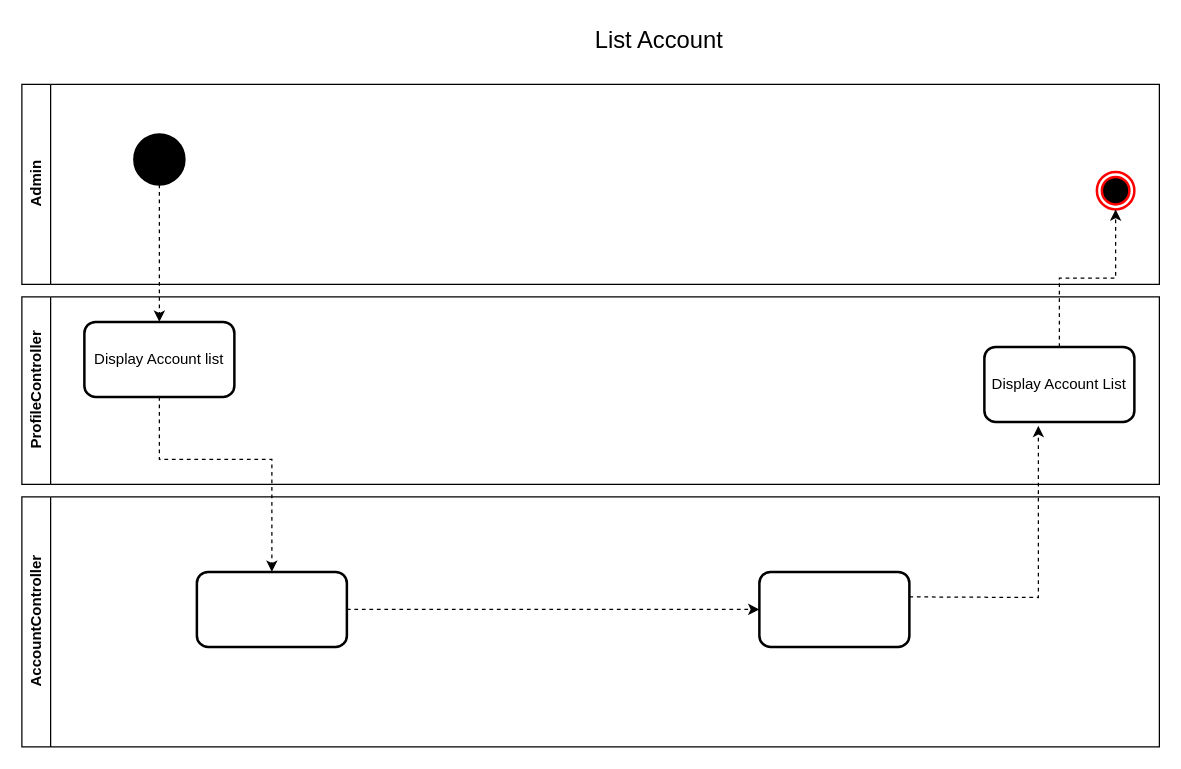
The diagram is 1181 pixels wide and 769 high, and some of its shapes have lost their labels. Each missing label, with the centre of its shape:
Choose Account management: (x=158, y=158)
Query all Account: (x=271, y=609)
Send back Account List: (x=834, y=609)
